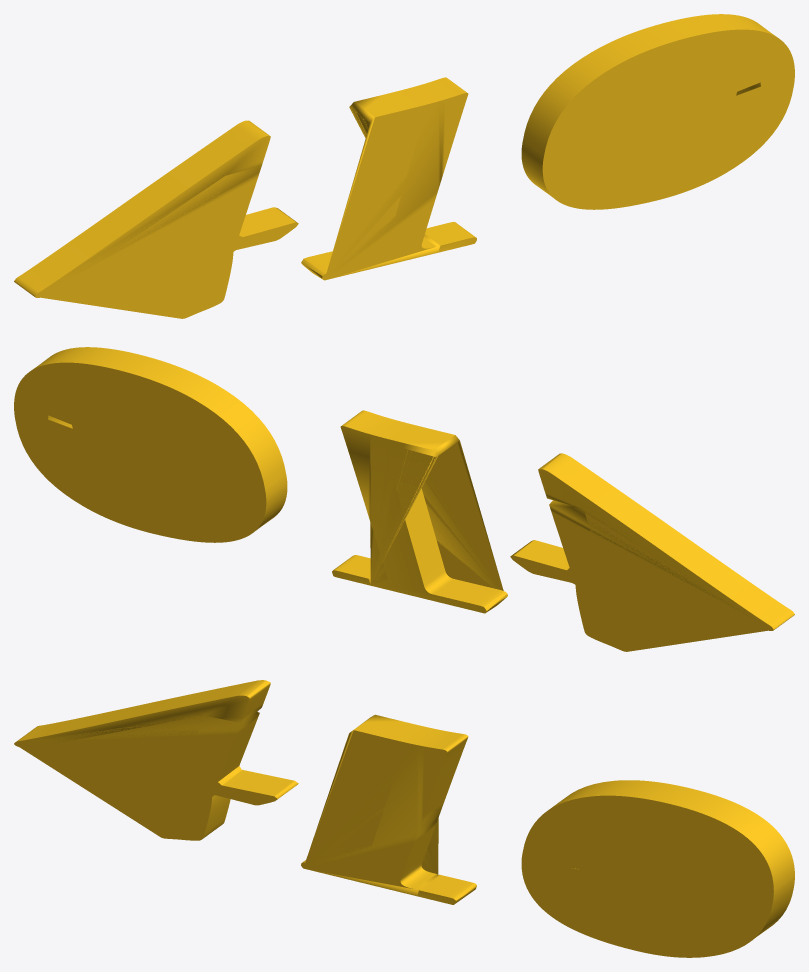
3 views of the same model, one above another, from view 1: azimuth 30°, elevation 25°; view 2: azimuth 150°, elevation 25°; view 3: azimuth 330°, elevation 25° (orthographic).
Visible parts, largest first — view 1: T_410_LOD0; view 2: T_410_LOD0; view 3: T_410_LOD0.
Part boxes in pixels (x1,y1,x2,y2): T_410_LOD0: [14, 14, 794, 318]; T_410_LOD0: [14, 347, 794, 651]; T_410_LOD0: [14, 680, 794, 957].
Size of what is drawn, in the model's own units: 18.92 by 3.86 by 0.9122.
